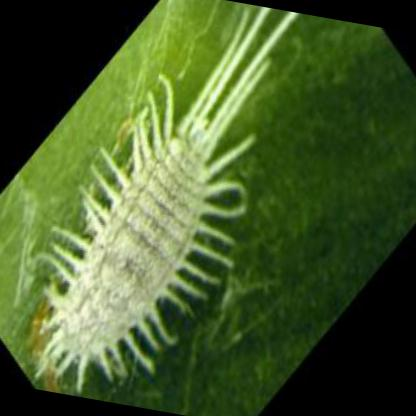mealy bug: (46, 8, 289, 373)
